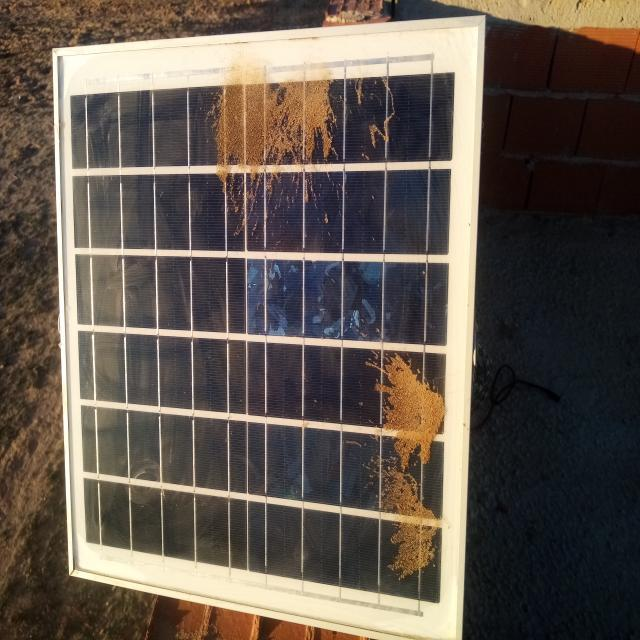faulty: (55, 16, 483, 640)
